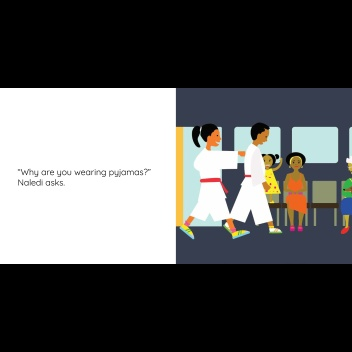latin: (16, 165, 152, 176), (15, 177, 67, 188)
